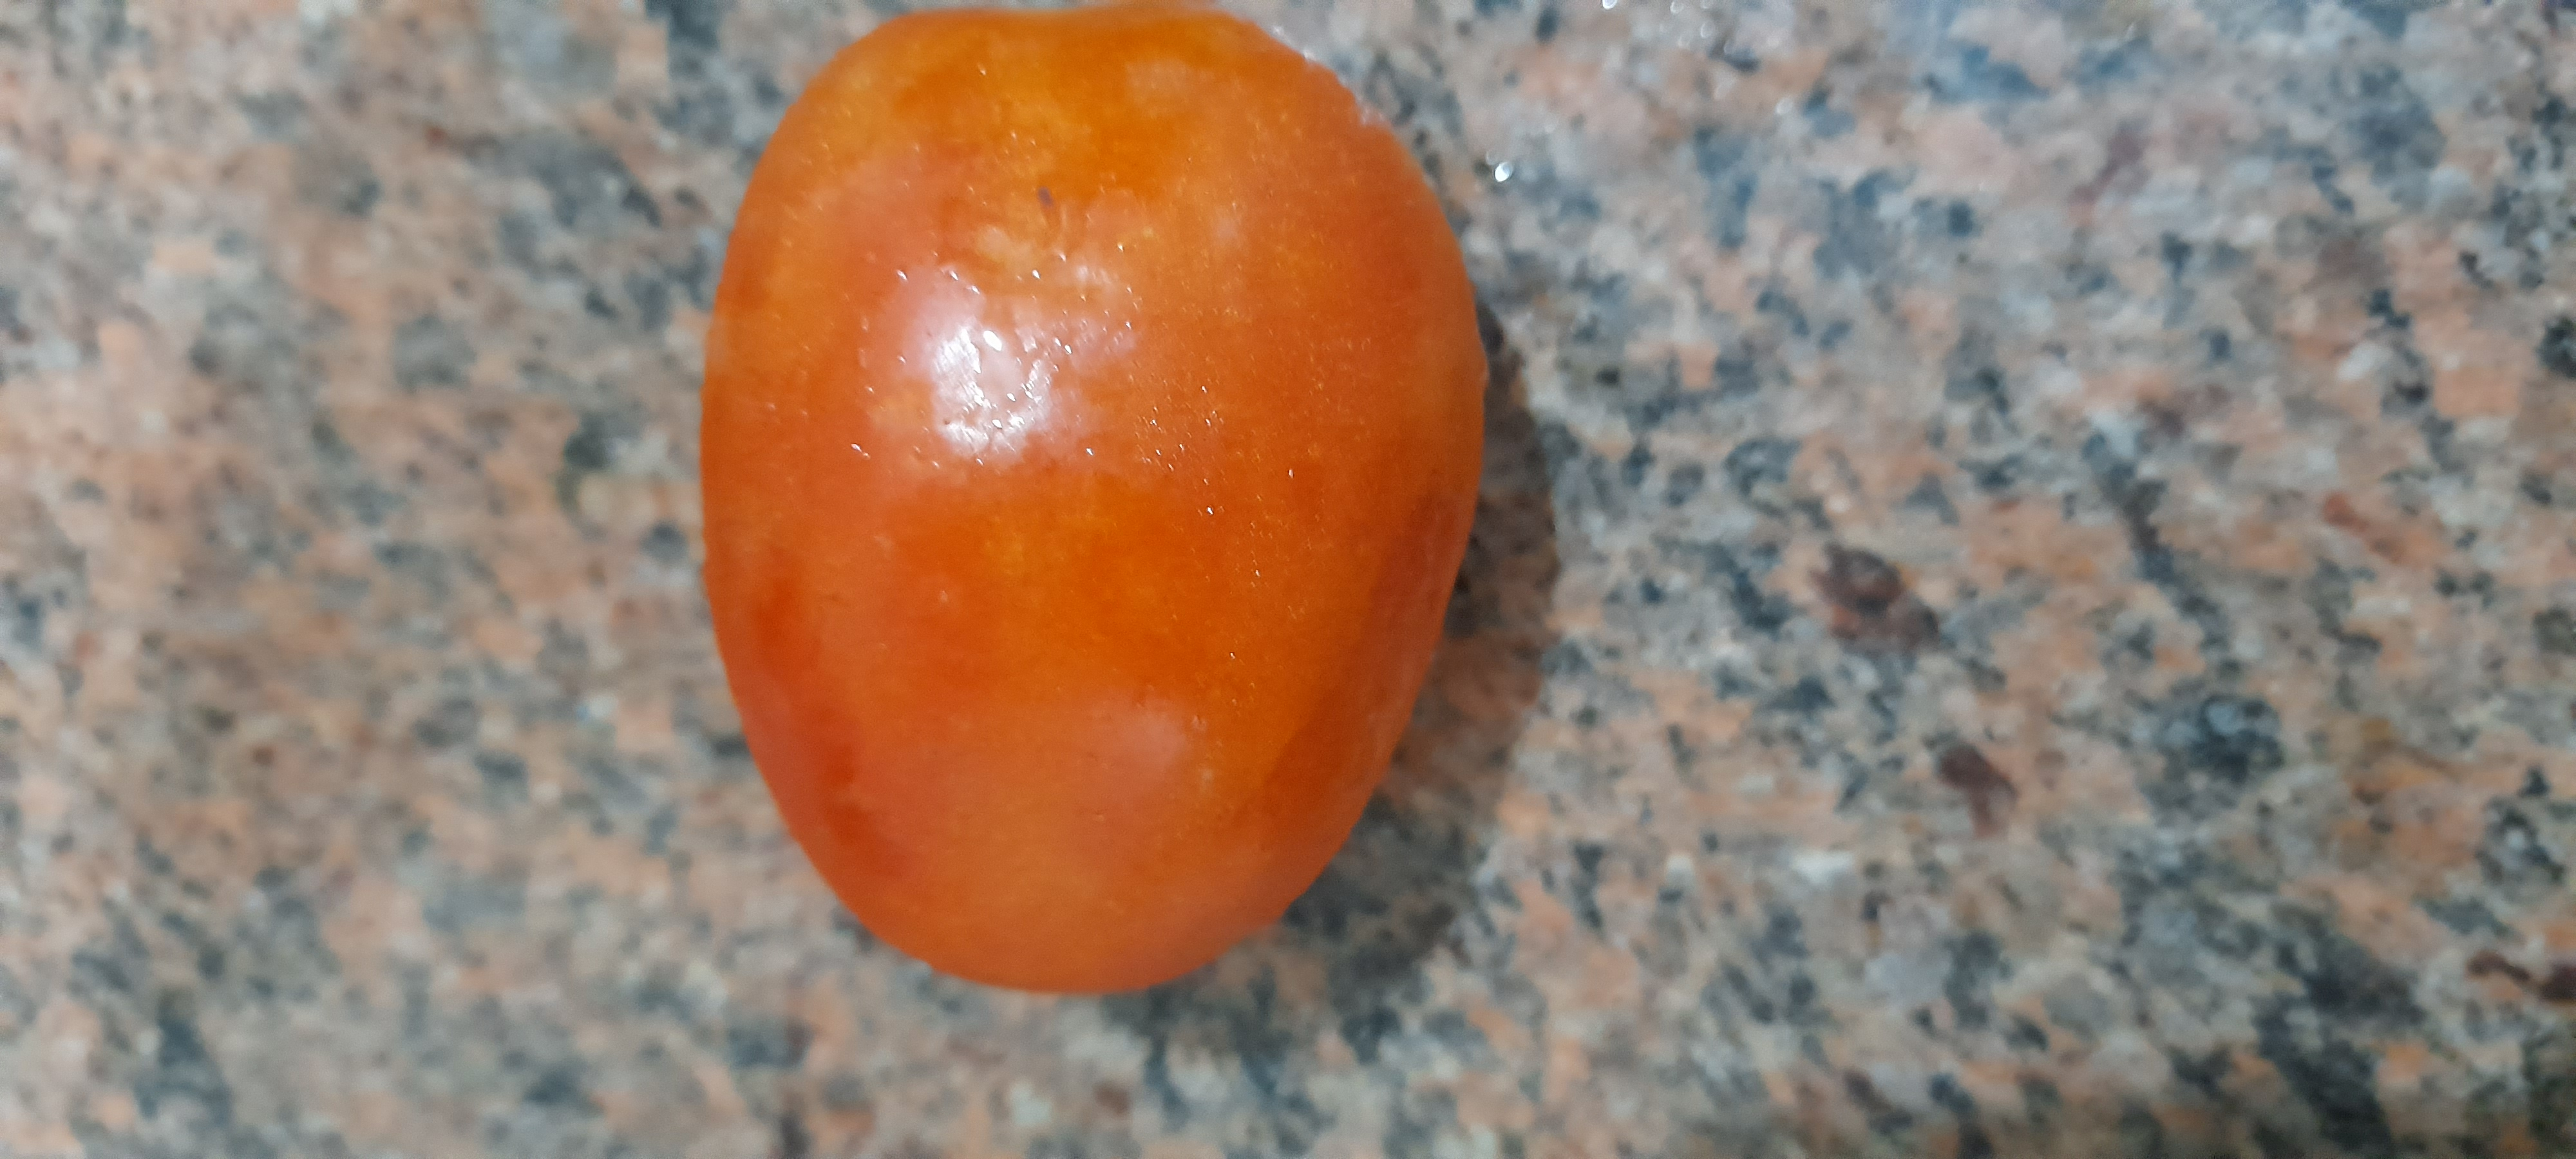tomato: (687, 18, 1536, 1023)
